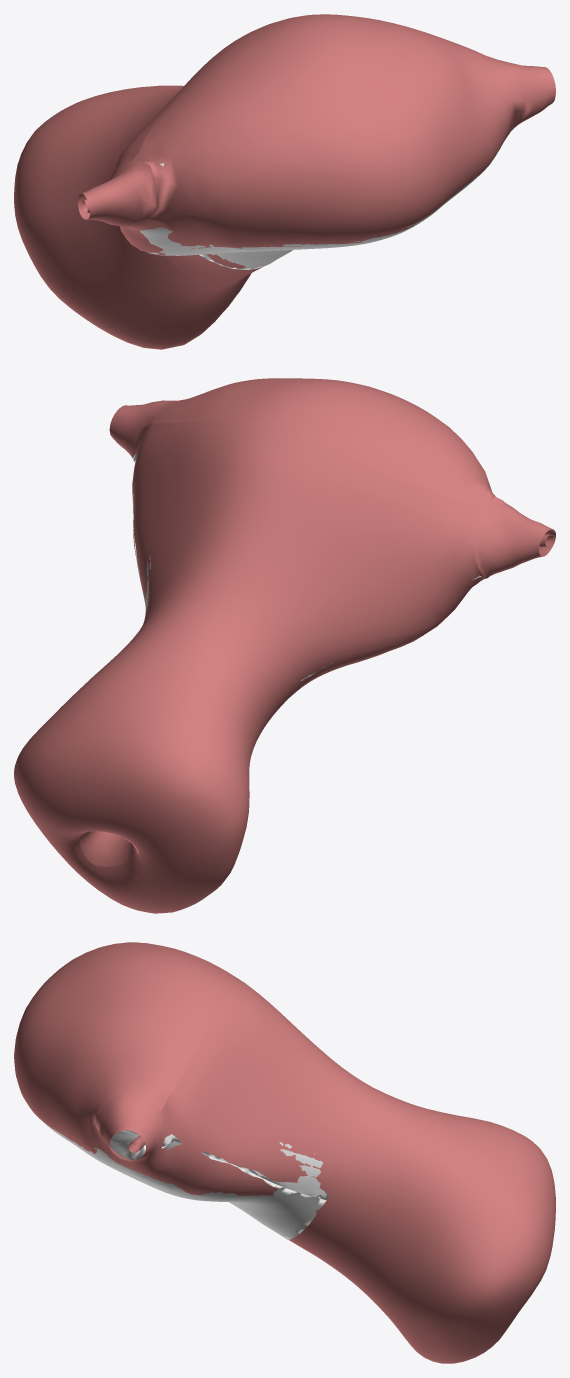
The model's file is vh_f_uterus-80.fbx.
3 views of the same model, one above another, from view 1: azimuth 30°, elevation 25°; view 2: azimuth 150°, elevation 25°; view 3: azimuth 270°, elevation 25° (orthographic). The views are drawn at different scales.
Parts seen in each view (by area): view 1: VH_F_fundus_of_uterus, VH_F_cervix, VH_F_cornua, VH_F_posterior_wall_of_uterus, VH_F_lower_uterine_segment, VH_F_body_of_uterus; view 2: VH_F_body_of_uterus, VH_F_cervix, VH_F_fundus_of_uterus, VH_F_lower_uterine_segment, VH_F_cornua, VH_F_external_cervical_os; view 3: VH_F_cervix, VH_F_body_of_uterus, VH_F_fundus_of_uterus, VH_F_lower_uterine_segment, VH_F_posterior_wall_of_uterus, VH_F_cornua, VH_F_anterior_wall_of_uterus.
Boxes of the visible parts, x1,y1,x2,y2 form: VH_F_fundus_of_uterus: (132,14,516,248); VH_F_cervix: (14,85,251,349); VH_F_cornua: (78,58,555,227); VH_F_posterior_wall_of_uterus: (140,147,500,269); VH_F_lower_uterine_segment: (119,87,262,285); VH_F_body_of_uterus: (114,18,511,268); VH_F_body_of_uterus: (132,421,486,694); VH_F_cervix: (14,642,261,913); VH_F_fundus_of_uterus: (142,378,495,513); VH_F_lower_uterine_segment: (124,600,296,737); VH_F_cornua: (109,400,555,578); VH_F_external_cervical_os: (79,831,136,866); VH_F_cervix: (332,1106,555,1363); VH_F_body_of_uterus: (115,962,366,1213); VH_F_fundus_of_uterus: (14,942,217,1163); VH_F_lower_uterine_segment: (289,1083,419,1266); VH_F_posterior_wall_of_uterus: (40,1119,326,1239); VH_F_cornua: (95,942,164,1164); VH_F_anterior_wall_of_uterus: (162,1134,328,1199).
Bounding box in the file's own units: 5.25 × 4.7 × 5.87.
